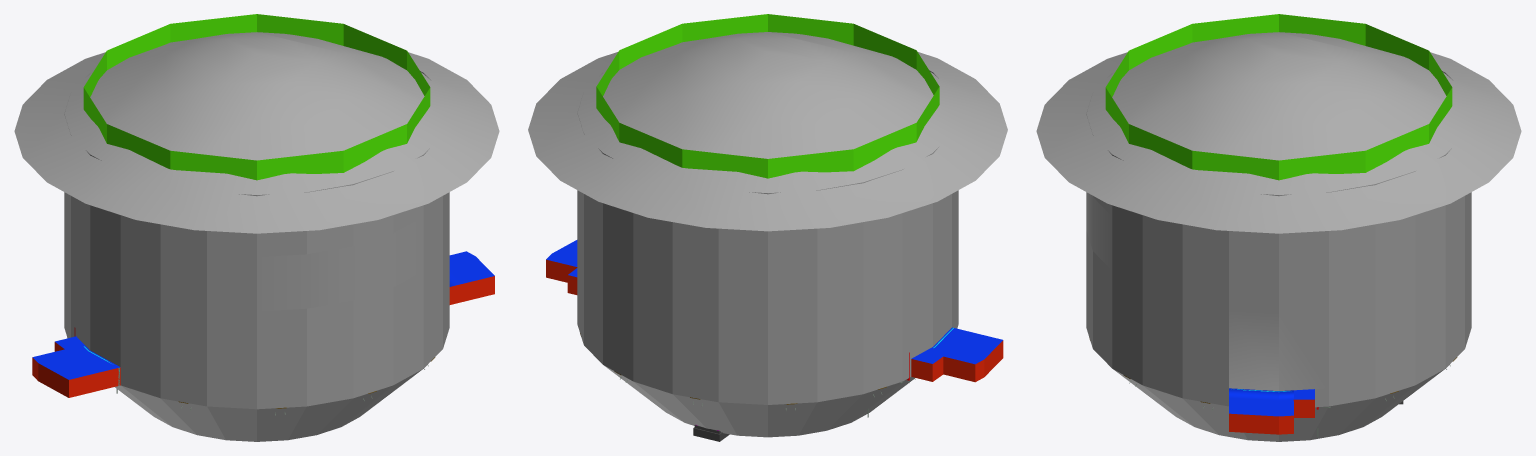
The model's file is TestScene.fbx.
3 renders of one model, left to right at view 1: azimuth 30°, elevation 25°; view 2: azimuth 150°, elevation 25°; view 3: azimuth 270°, elevation 25°, orthographic.
Parts seen in each view (by area): view 1: Scene, pDisc1, pTorus1; view 2: Scene, pDisc1, pTorus1; view 3: Scene, pDisc1, pTorus1.
Part boxes in pixels (<box>): Scene: <box>32,71,494,441</box>; pDisc1: <box>14,32,499,233</box>; pTorus1: <box>83,14,430,180</box>; Scene: <box>546,70,1003,437</box>; pDisc1: <box>528,32,1007,231</box>; pTorus1: <box>596,14,939,178</box>; Scene: <box>1086,71,1471,441</box>; pDisc1: <box>1036,32,1521,233</box>; pTorus1: <box>1105,14,1452,180</box>.
Size of what is drawn, in the model's own units: 401 by 302 by 385.
